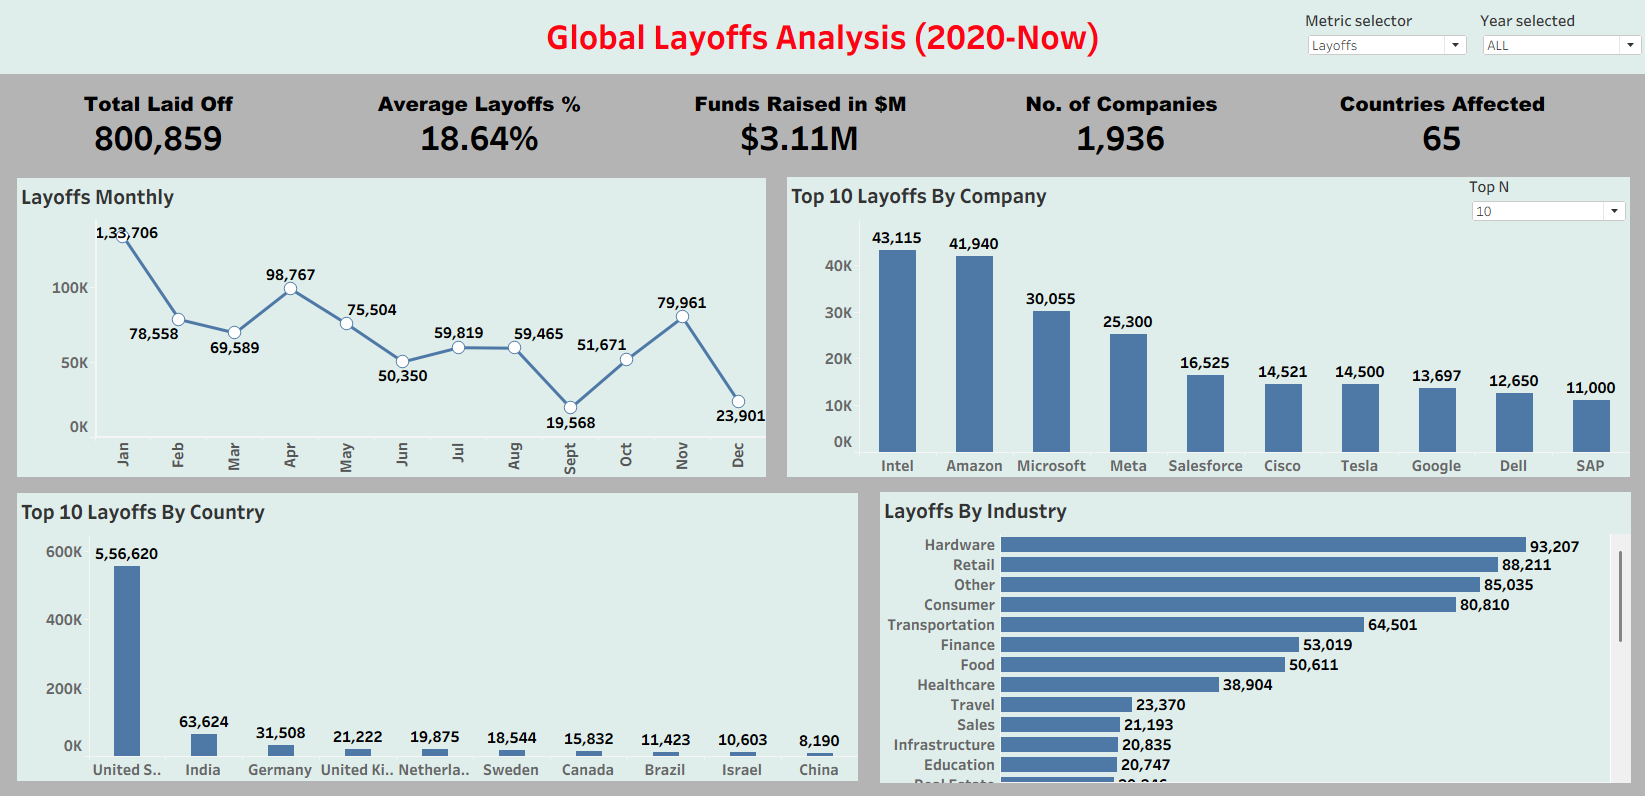

This screenshot's page, from the dashboard's own definition file:
{"tool":"tableau","page":{"name":"Dashboard 1","canvas":[1650,800],"ordinal":0},"visuals":[{"type":"text","box":[0,0,1650,76]},{"type":"parameter","param":"[Parameters].[Parameter 1]","box":[1307,12,165,49]},{"type":"parameter","param":"[Parameters].[Parameter 2]","box":[1482,12,165,48]},{"type":"worksheet","title":"KPI","mark":"Automatic","box":[0,76,1650,92]},{"type":"parameter","param":"[Parameters].[Parameter 3]","box":[1471,178,160,48]},{"type":"worksheet","title":"companies","mark":"Automatic","rows":["Calculation_560416695730585601"],"cols":["company"],"box":[789,179,843,300]},{"type":"worksheet","title":"time layoffs","mark":"Line","rows":["Calculation_560416695730585601","Calculation_560416695730585601"],"cols":["months"],"box":[19,180,749,299]},{"type":"worksheet","title":"By industry","mark":"Automatic","rows":["industry"],"cols":["Calculation_560416695730585601"],"box":[882,494,751,291]},{"type":"worksheet","title":"Top N","mark":"Automatic","rows":["Calculation_560416695730585601"],"cols":["country"],"box":[19,495,841,288]}]}

Visuals, with their boxes in screenshot pixels (x1, y1, x2, y2), scaled from the page's 1650x800 canvas onto the 1645x796 screenshot:
text: x1=0, y1=0, x2=1644, y2=76
parameter: x1=1303, y1=12, x2=1468, y2=61
parameter: x1=1478, y1=12, x2=1642, y2=60
"KPI" worksheet: x1=0, y1=76, x2=1644, y2=167
parameter: x1=1467, y1=177, x2=1626, y2=225
"companies" worksheet: x1=787, y1=178, x2=1627, y2=477
"time layoffs" worksheet (Line marks): x1=19, y1=179, x2=766, y2=477
"By industry" worksheet: x1=879, y1=492, x2=1628, y2=781
"Top N" worksheet: x1=19, y1=493, x2=857, y2=779
